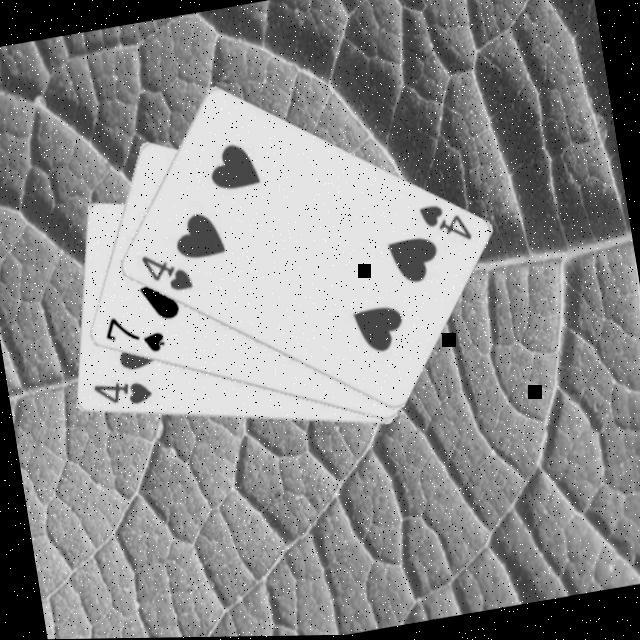4H: (134, 246, 196, 302), (412, 198, 474, 254), (88, 375, 154, 417)
7S: (96, 309, 168, 366)
